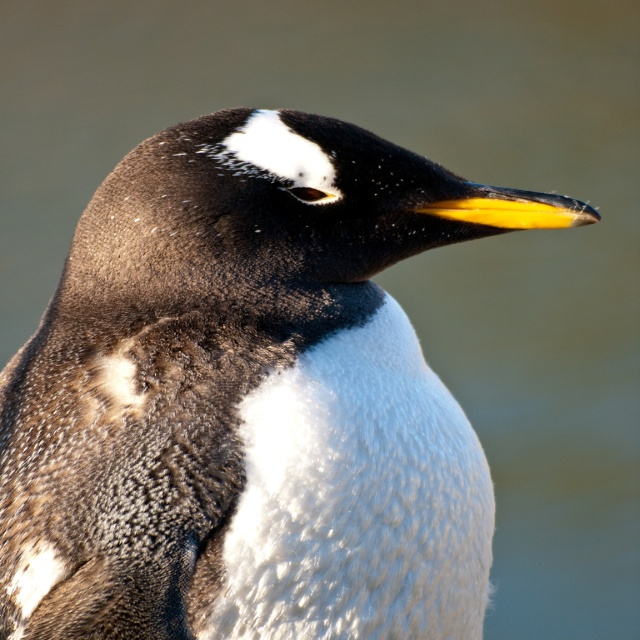Penguin: (1, 110, 591, 640)
